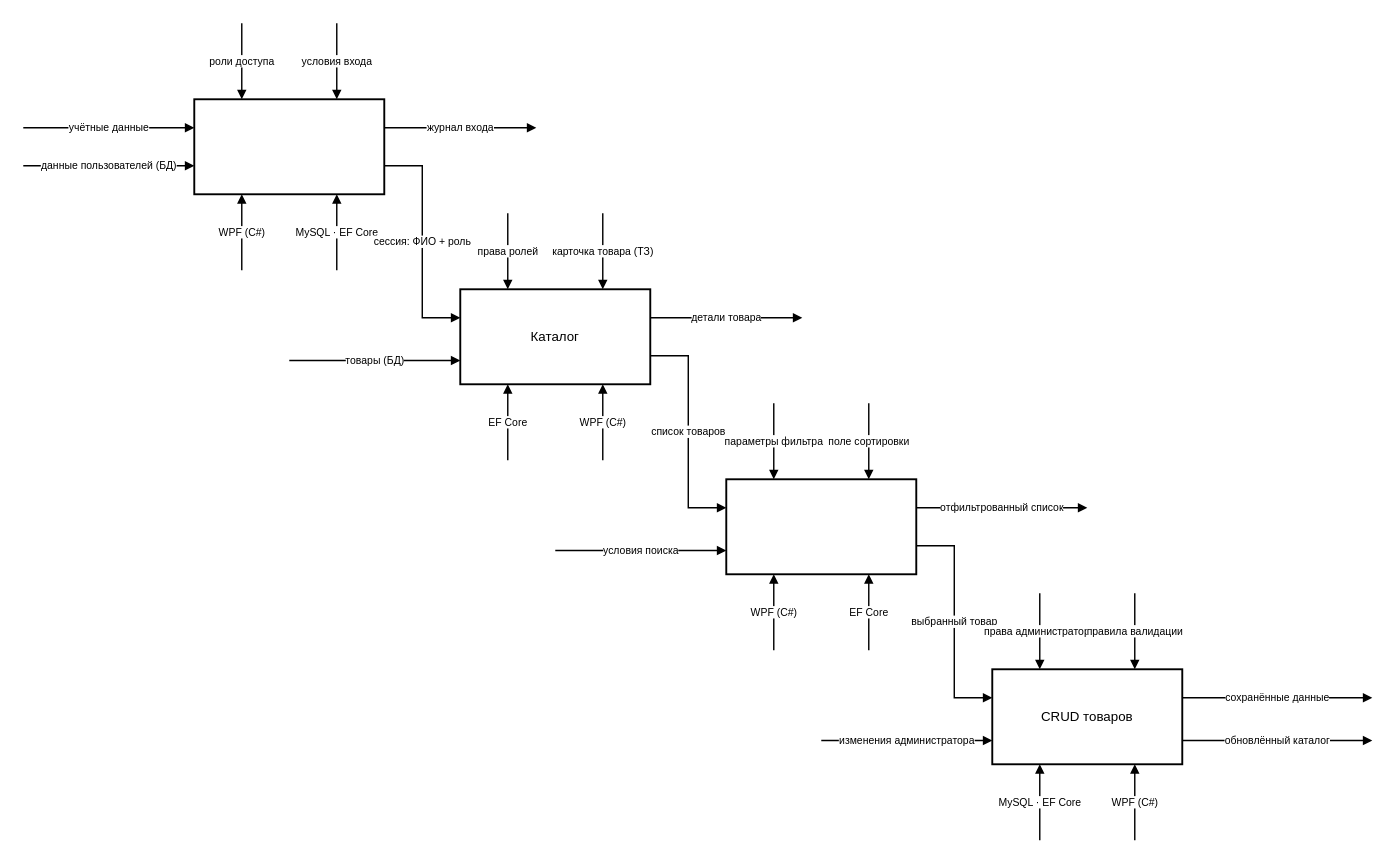
Image size: 1397x865. Some labels were removed from this diagram. Each missing label, with the centre of its shape:
"Авторизация" belongs at point 289,146.
"Поиск / фильтр / сорт" belongs at point 821,526.
